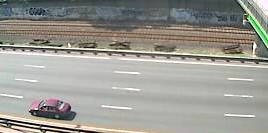car: (27, 96, 76, 122)
